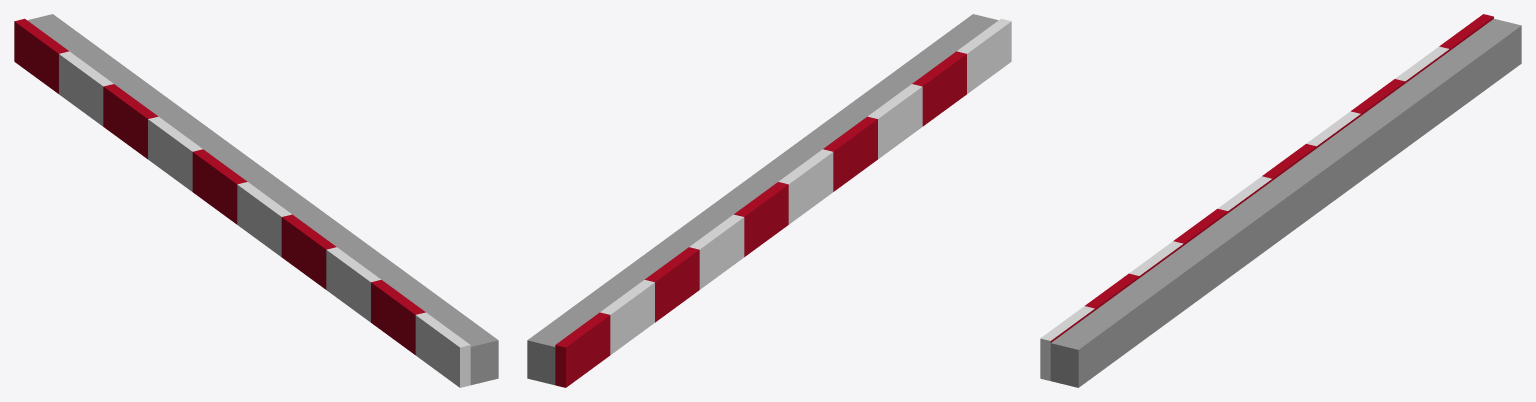
File: footpath.fbx
3 views of the same model, side by side, from view 1: azimuth 30°, elevation 25°; view 2: azimuth 150°, elevation 25°; view 3: azimuth 330°, elevation 25° (orthographic).
Visible parts, largest first — view 1: Cube; view 2: Cube; view 3: Cube.
Part boxes in pixels (x1=…): Cube: x1=14, y1=14, x2=498, y2=387; Cube: x1=527, y1=14, x2=1011, y2=387; Cube: x1=1040, y1=14, x2=1521, y2=387.
Bounding box in the file's own units: 200 × 200 × 4000.
